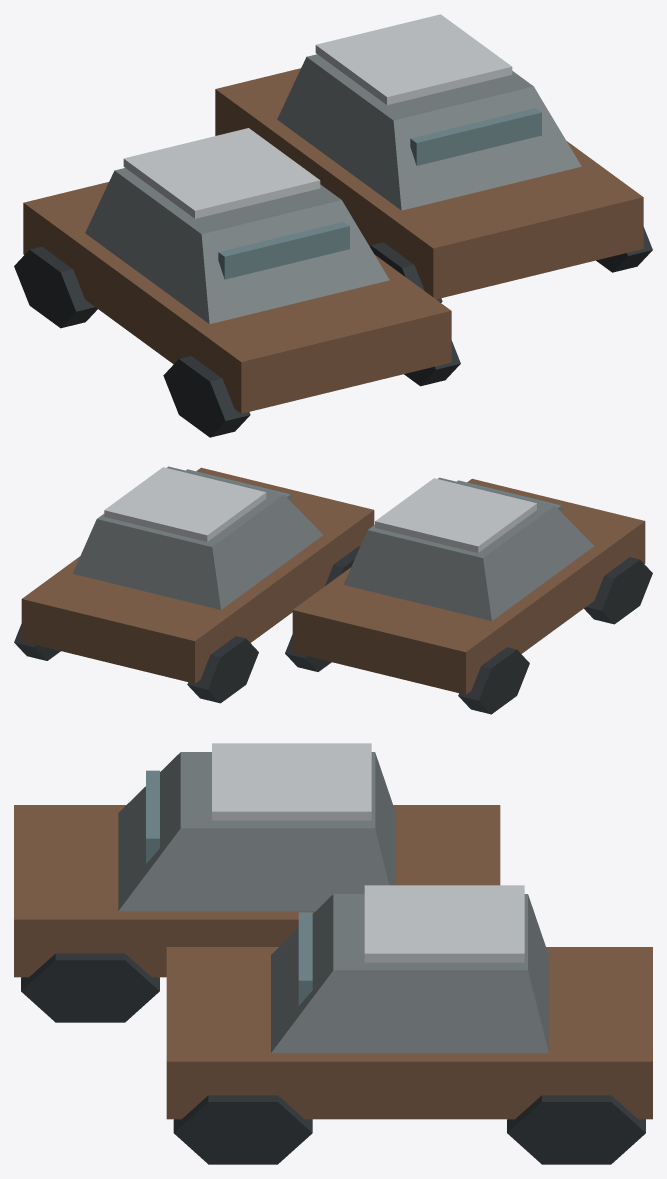
Rendered from wrecked_car_cluster.glb.
3 views of the same model, one above another, from view 1: azimuth 30°, elevation 25°; view 2: azimuth 150°, elevation 25°; view 3: azimuth 270°, elevation 25° (orthographic). The views are drawn at different scales.
Parts seen in each view (by area): view 1: wrecked_car_cluster; view 2: wrecked_car_cluster; view 3: wrecked_car_cluster.
Part boxes in pixels (x1,y1,x2,y2): wrecked_car_cluster: (14,14,652,437); wrecked_car_cluster: (14,466,652,714); wrecked_car_cluster: (14,743,652,1164).
Size of the model in its own units: 3.84 by 1.2 by 3.84.
